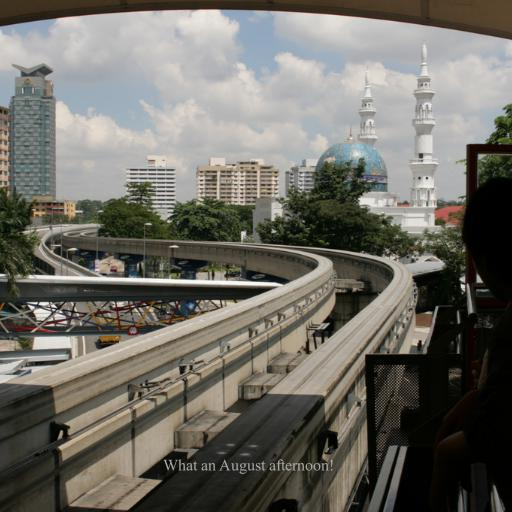Times New Roman: (162, 459, 334, 474)
